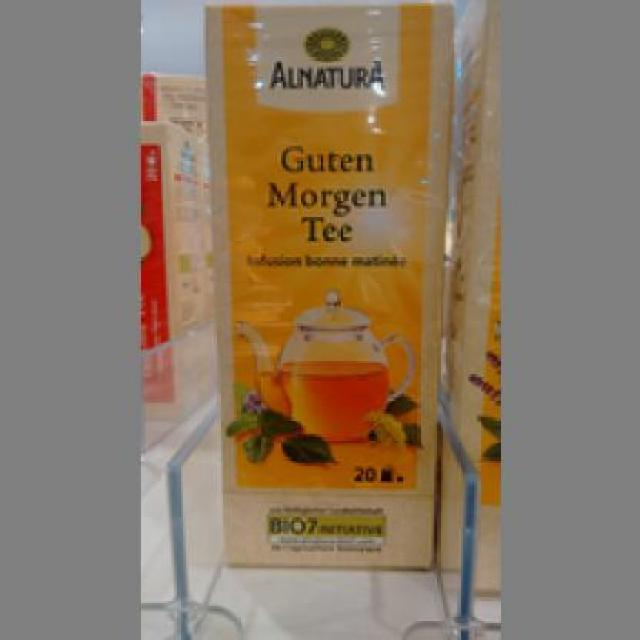Tea: (199, 0, 452, 566)
